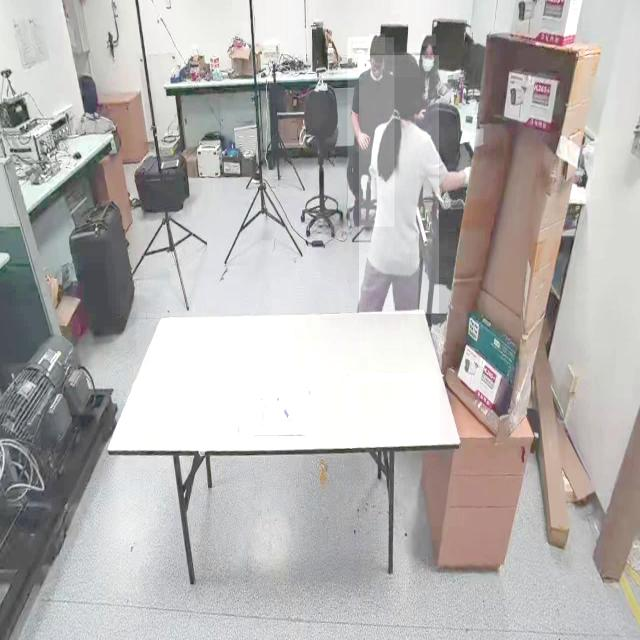face_mask: (421, 48, 435, 74)
face_nomask: (370, 58, 384, 82)
hand_noglove: (355, 128, 371, 152)
head_nohelmet: (392, 52, 420, 78), (369, 34, 385, 54), (422, 34, 436, 47)
person: (359, 55, 439, 315), (348, 37, 394, 227)
